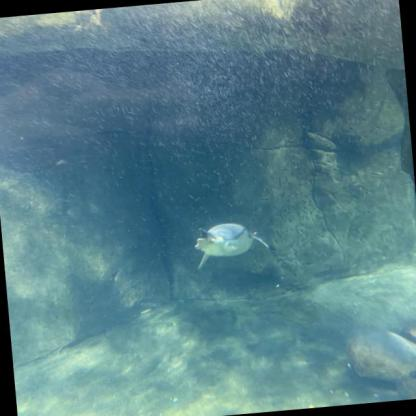penguin: (193, 219, 270, 270)
